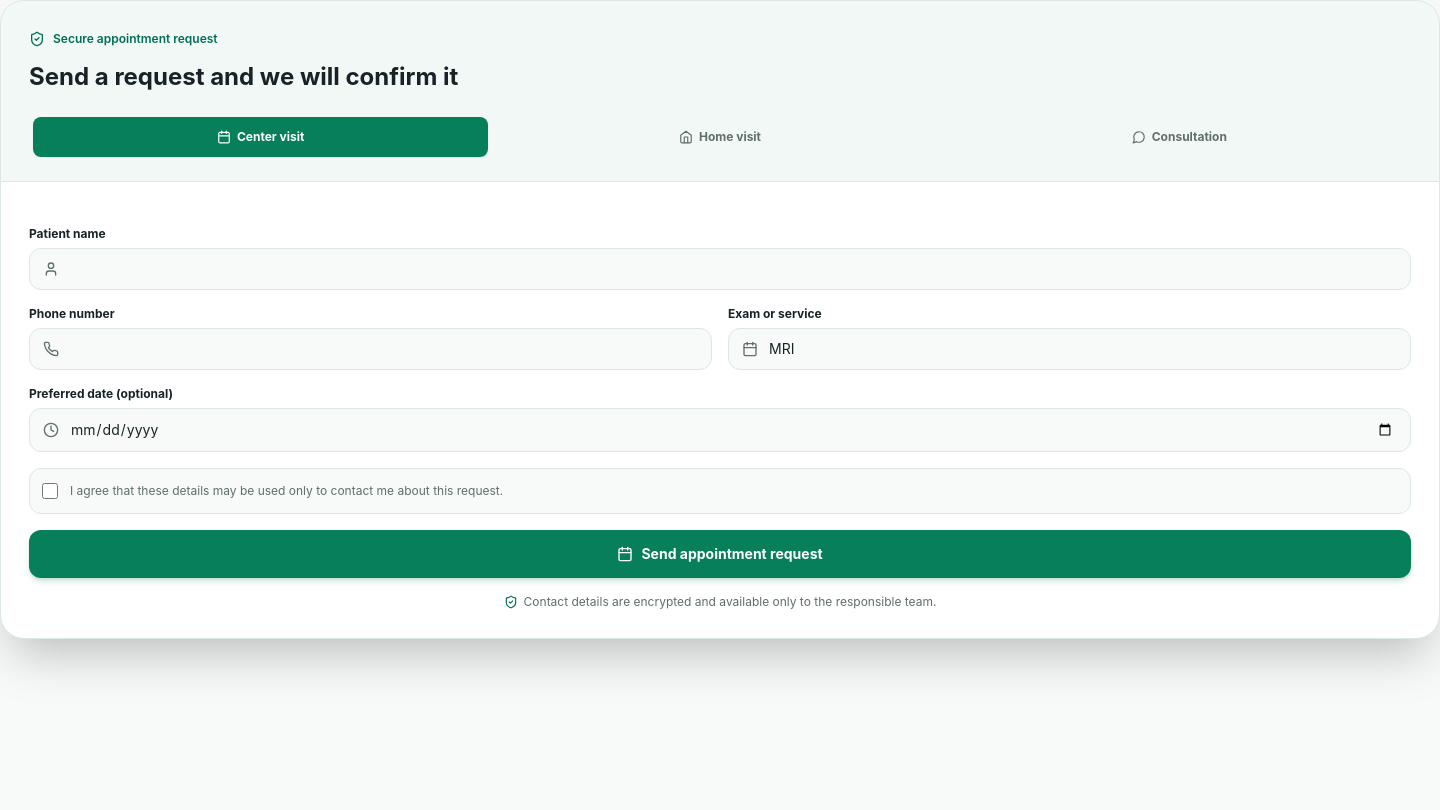
public landing actions › submits an encrypted-server booking workflow and shows its tracking number
Type "Test Patient" into the field labelled "Patient name" at [720, 269], box [29,248,1411,290]
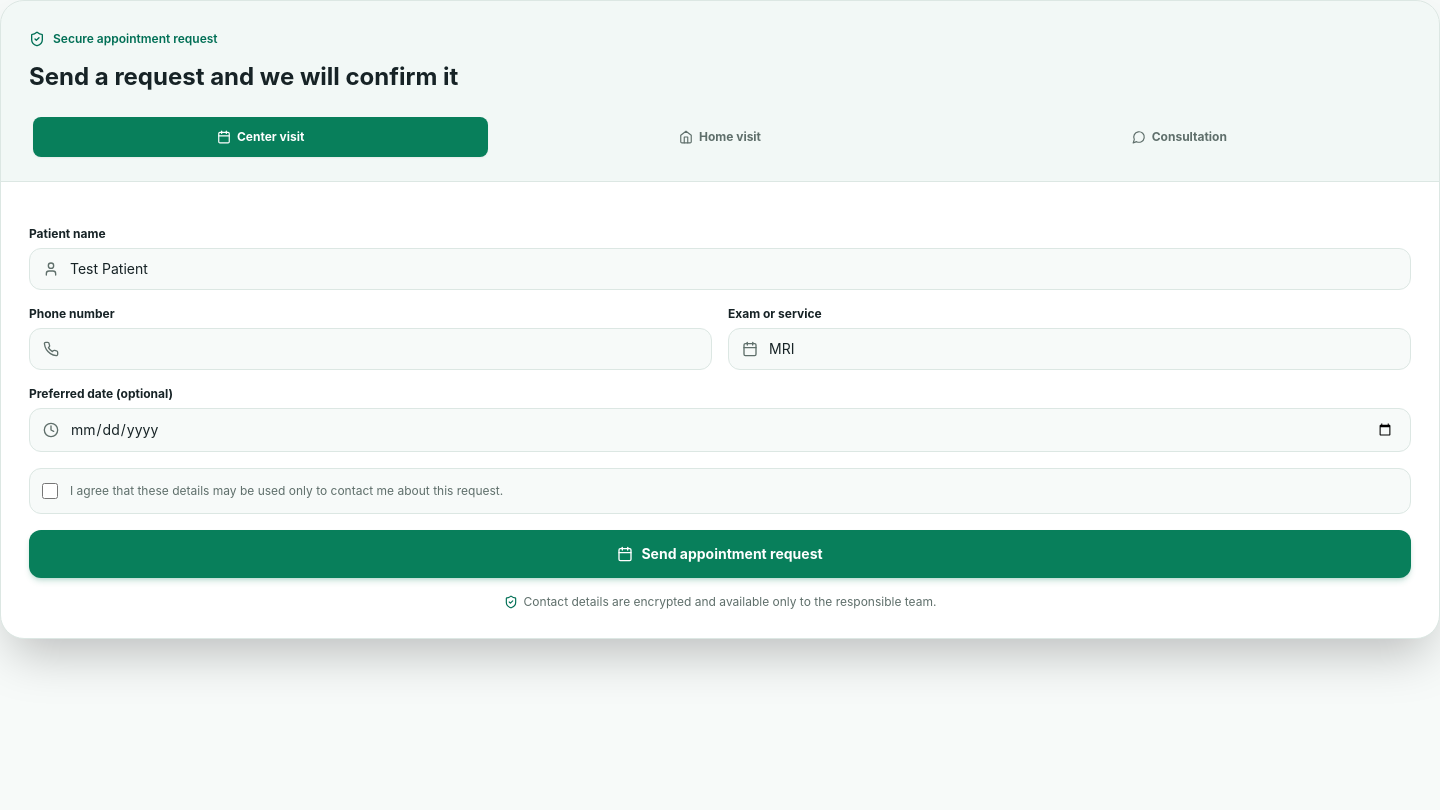
Type "+20 100 000 0000" into the field labelled "Phone number" at [370, 349], box [29,328,712,370]
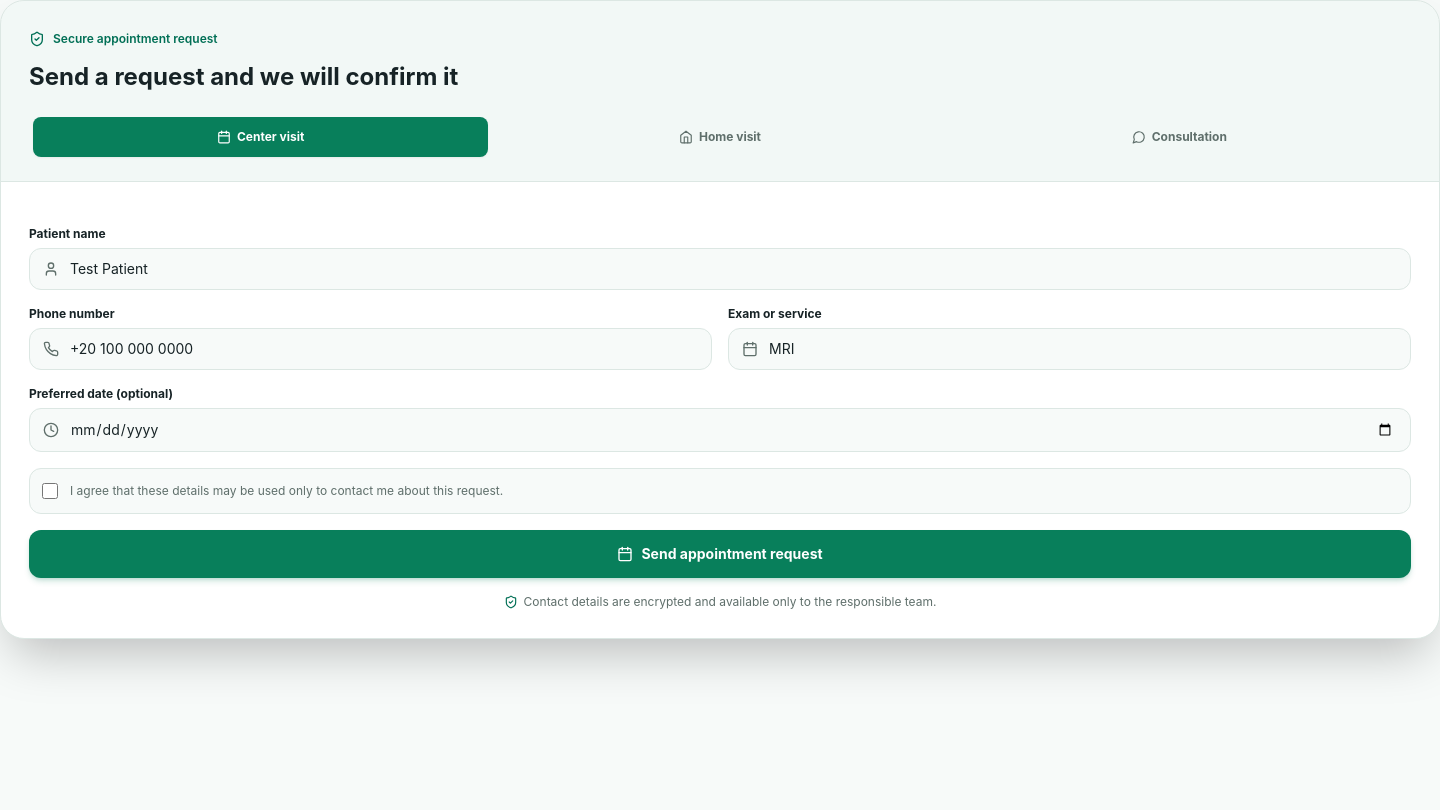
Click the checkbox at [50, 491], box [42,483,58,499]
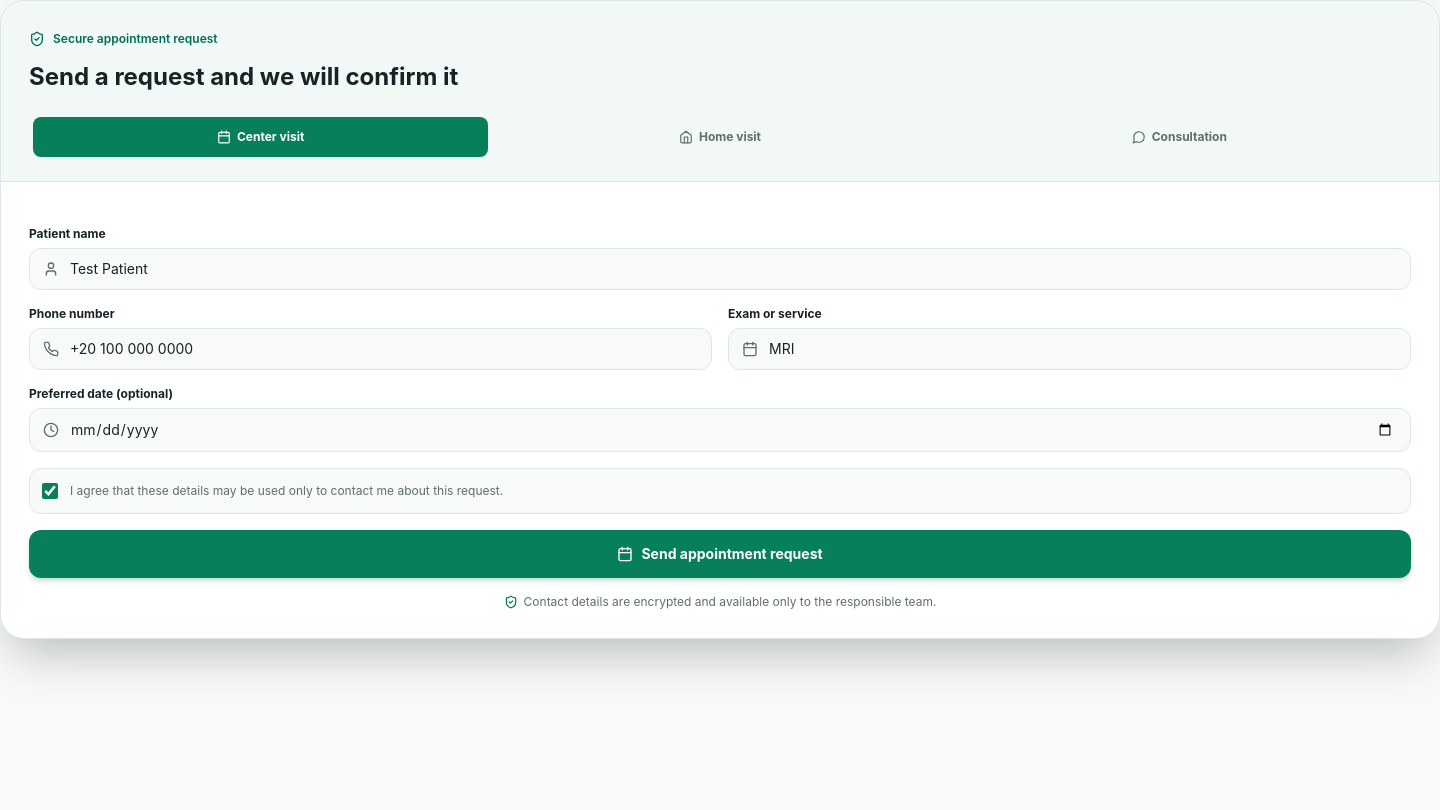
Click the button "Send appointment request" at [720, 554], box [29,530,1411,578]
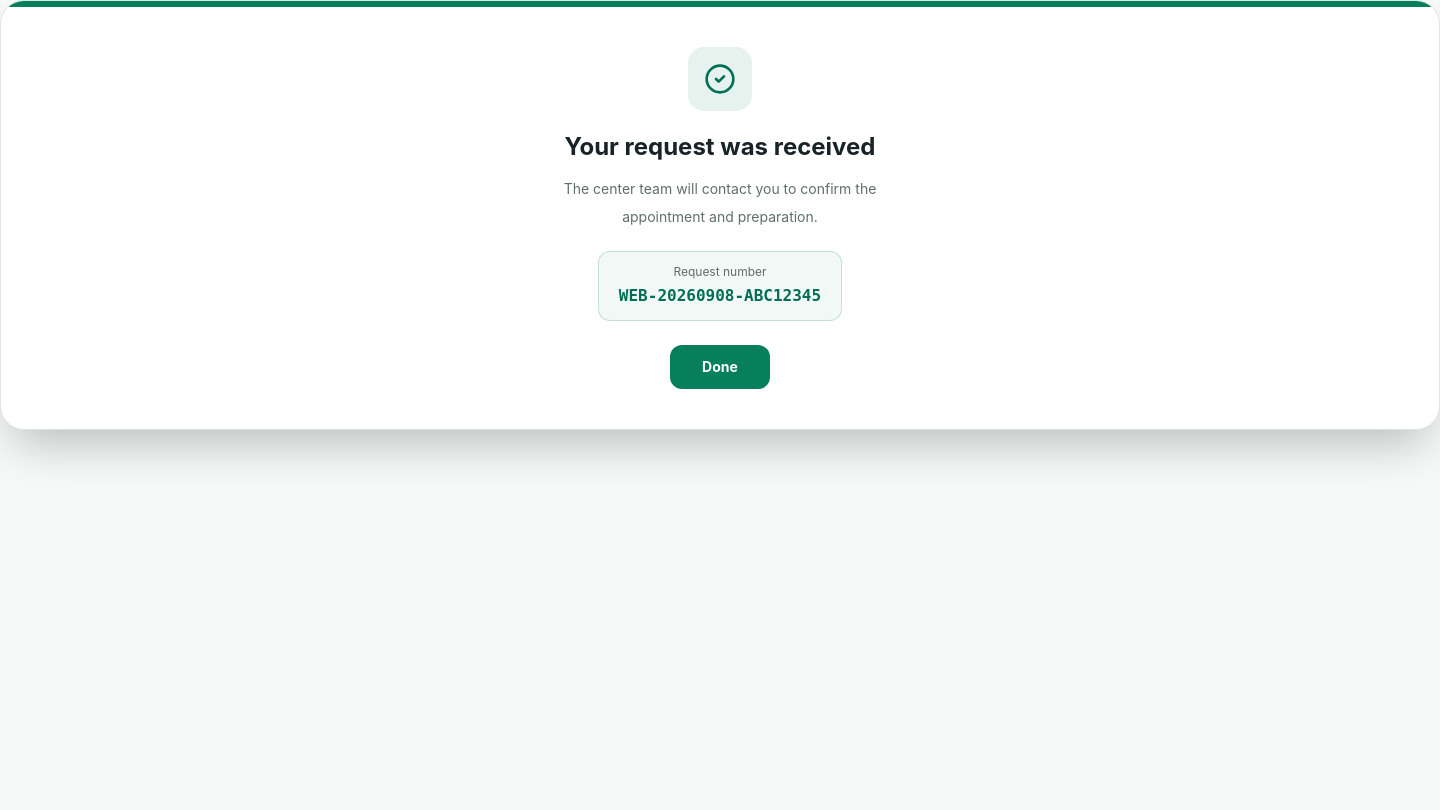
Expected: the text "WEB-20260908-ABC12345" is shown, [619,284,821,308]
